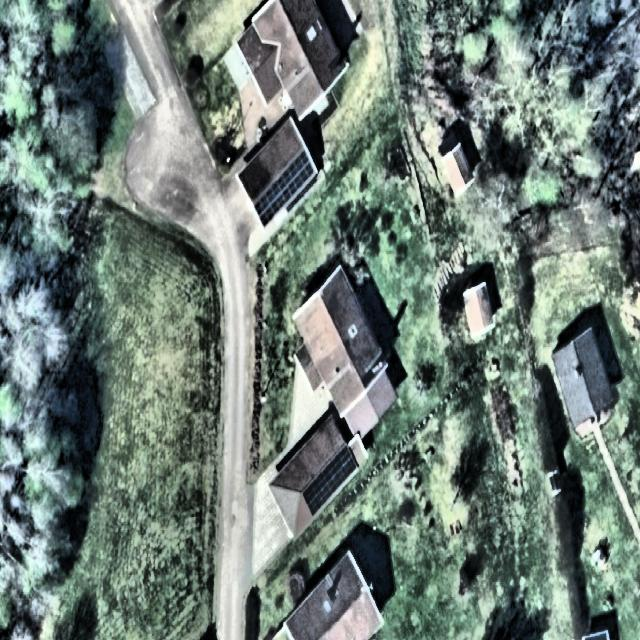roof_pv: (282, 148, 314, 198), (329, 441, 358, 494), (258, 177, 284, 230), (303, 468, 330, 518)
